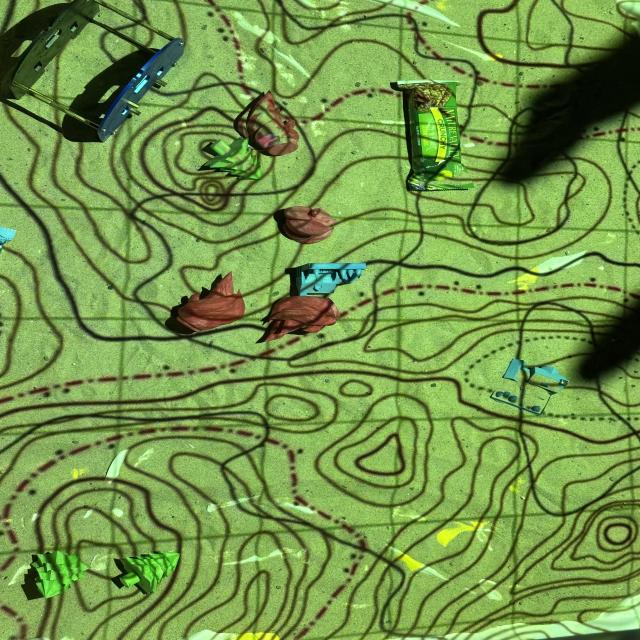fire: (177, 270, 245, 332), (236, 90, 299, 156), (262, 296, 341, 343), (282, 206, 339, 244)
house: (490, 357, 568, 415), (288, 262, 366, 297)
tree: (31, 550, 90, 599), (120, 550, 180, 595), (204, 137, 262, 180)
